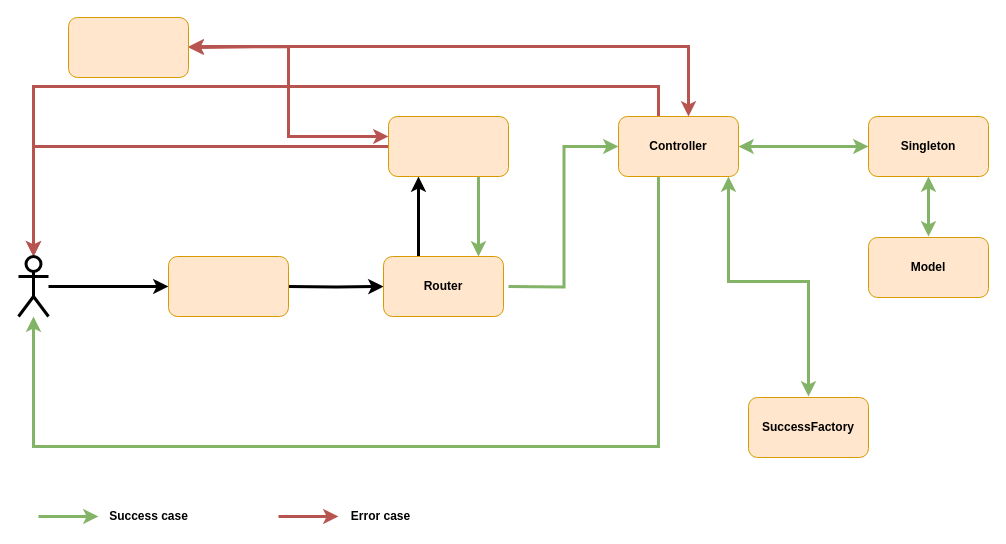
The diagram is 1006 pixels wide and 544 high, and some of its shapes have lost their labels. The centre of each missing label's shape, as x and y in pixels:
"ErrorFactory" goes at pixel 128 47.
"Index" goes at pixel 228 286.
"Middleware" goes at pixel 448 146.
